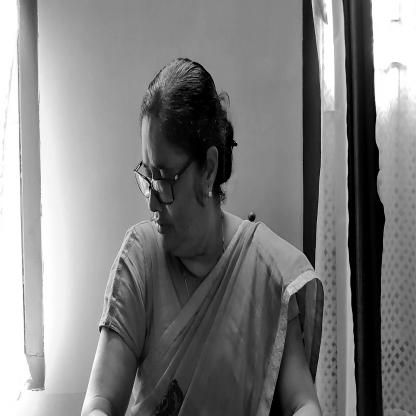Distracted: (137, 76, 241, 261)
